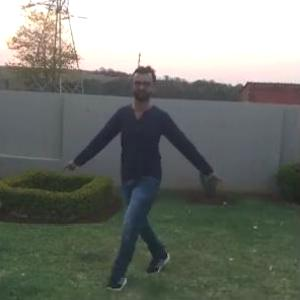land: (88, 75, 201, 240)
